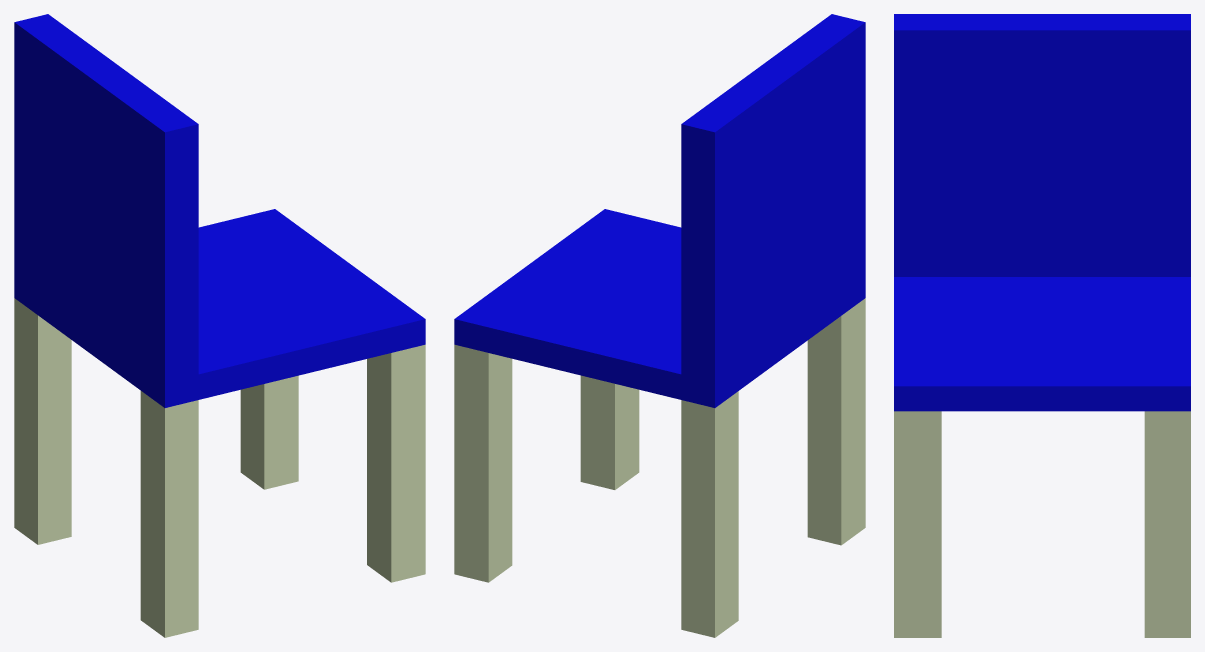
Rendered from sillabien12_6.fbx.
The picture shows the model from 3 angles, left to right: view 1: azimuth 30°, elevation 25°; view 2: azimuth 150°, elevation 25°; view 3: azimuth 270°, elevation 25°; orthographic projection.
Parts seen in each view (by area): view 1: Cube.008; view 2: Cube.008; view 3: Cube.008.
Boxes of the visible parts, x1,y1,x2,y2 form: Cube.008: [14, 14, 425, 637]; Cube.008: [454, 14, 865, 637]; Cube.008: [894, 14, 1190, 637].
Bounding box in the file's own units: 200 × 371 × 200.
